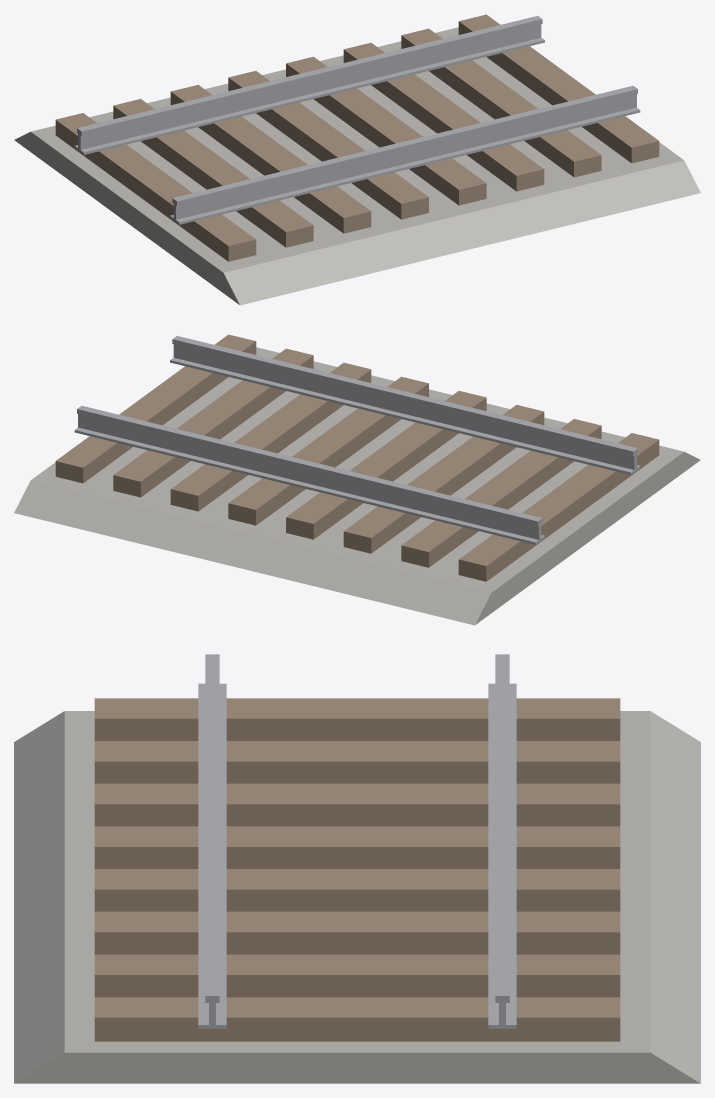
File: track.glb
3 views of the same model, one above another, from view 1: azimuth 30°, elevation 25°; view 2: azimuth 150°, elevation 25°; view 3: azimuth 270°, elevation 25° (orthographic). The views are drawn at different scales.
Visible parts, largest first — view 1: track_tie, track_ballast, track_rail; view 2: track_tie, track_ballast, track_rail; view 3: track_tie, track_ballast, track_rail.
Boxes of the visible parts, x1,y1,x2,y2 form: track_tie: [55, 14, 659, 261]; track_ballast: [14, 27, 700, 305]; track_rail: [74, 16, 640, 224]; track_tie: [55, 334, 659, 581]; track_ballast: [14, 347, 700, 625]; track_rail: [74, 336, 640, 544]; track_tie: [94, 698, 620, 1041]; track_ballast: [14, 711, 700, 1083]; track_rail: [198, 654, 516, 1028].
Size of the model in its own units: 4 by 0.48 by 3.4.
